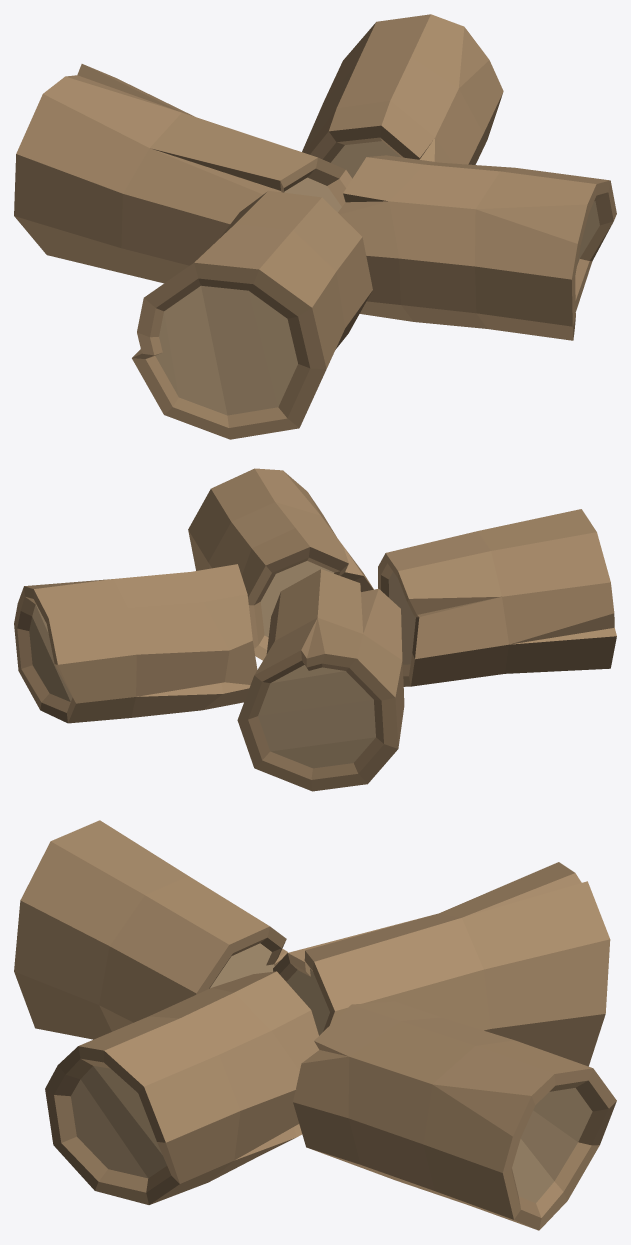
File: bonfire.glb
3 renders of one model, top to bottom at view 1: azimuth 30°, elevation 25°; view 2: azimuth 150°, elevation 25°; view 3: azimuth 270°, elevation 25°, orthographic. The views are drawn at different scales.
Parts seen in each view (by area): view 1: Bonfire; view 2: Bonfire; view 3: Bonfire.
Part boxes in pixels (left/top/right/bottom): Bonfire: left=14, top=14, right=616, bottom=439; Bonfire: left=14, top=468, right=616, bottom=791; Bonfire: left=14, top=820, right=616, bottom=1230.
Size of the model in its own units: 2.18 by 0.6757 by 1.98.
